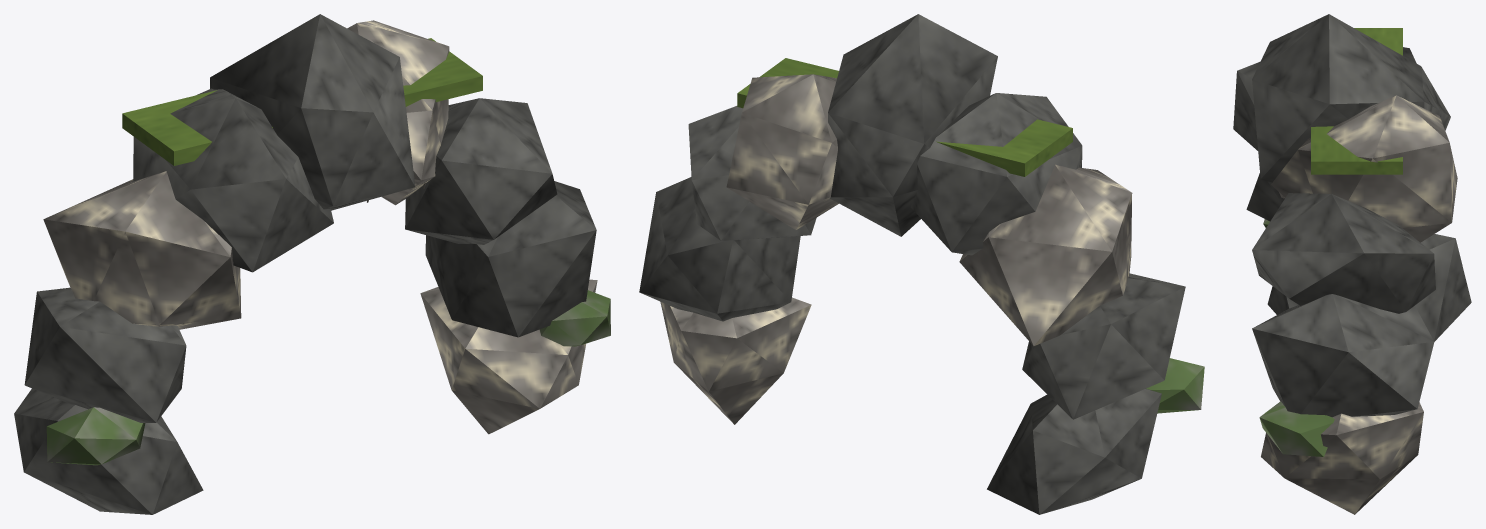
Rendered from SM_CaveEntrance_LOD1.fbx.
3 views of the same model, side by side, from view 1: azimuth 30°, elevation 25°; view 2: azimuth 150°, elevation 25°; view 3: azimuth 270°, elevation 25° (orthographic). The views are drawn at different scales.
Parts seen in each view (by area): view 1: SM_CaveEntrance_LOD1; view 2: SM_CaveEntrance_LOD1; view 3: SM_CaveEntrance_LOD1.
Part boxes in pixels (x1=…): SM_CaveEntrance_LOD1: x1=14, y1=14, x2=610, y2=514; SM_CaveEntrance_LOD1: x1=639, y1=14, x2=1204, y2=514; SM_CaveEntrance_LOD1: x1=1233, y1=14, x2=1471, y2=514.
Bounding box in the file's own units: 20.29 × 16.19 × 8.29.
1 material, 1 textured.
